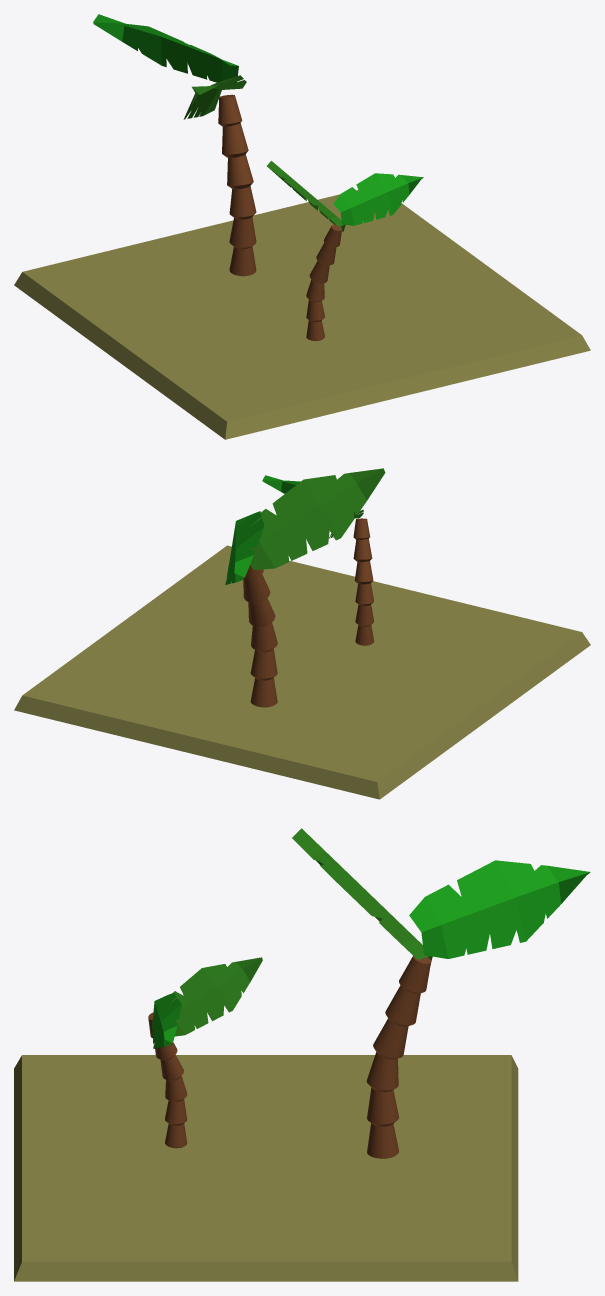
Rendered from actividad2.glb.
3 renders of one model, top to bottom at view 1: azimuth 30°, elevation 25°; view 2: azimuth 150°, elevation 25°; view 3: azimuth 270°, elevation 25°, orthographic. The views are drawn at different scales.
Parts seen in each view (by area): view 1: Cylinder, Plane.002, Plane.004, Plane.001, Plane.003; view 2: Cylinder, Plane.001, Plane.002; view 3: Cylinder, Plane.002, Plane.003, Plane.001, Plane.004.
Boxes of the visible parts, x1,y1,x2,y2 form: Cylinder: [14, 94, 590, 439]; Plane.002: [93, 14, 238, 83]; Plane.004: [333, 173, 423, 225]; Plane.001: [183, 75, 246, 119]; Plane.003: [267, 161, 345, 231]; Cylinder: [14, 518, 590, 799]; Plane.001: [249, 468, 385, 570]; Plane.002: [225, 511, 264, 584]; Cylinder: [14, 956, 518, 1281]; Plane.002: [409, 860, 590, 958]; Plane.003: [170, 957, 262, 1036]; Plane.001: [292, 828, 432, 964]; Plane.004: [152, 993, 181, 1048].
Bounding box in the file's own units: 23.9 × 15.21 × 27.34.
